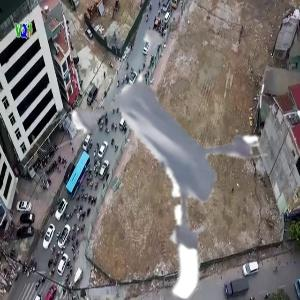drone: (39, 39, 276, 276)
